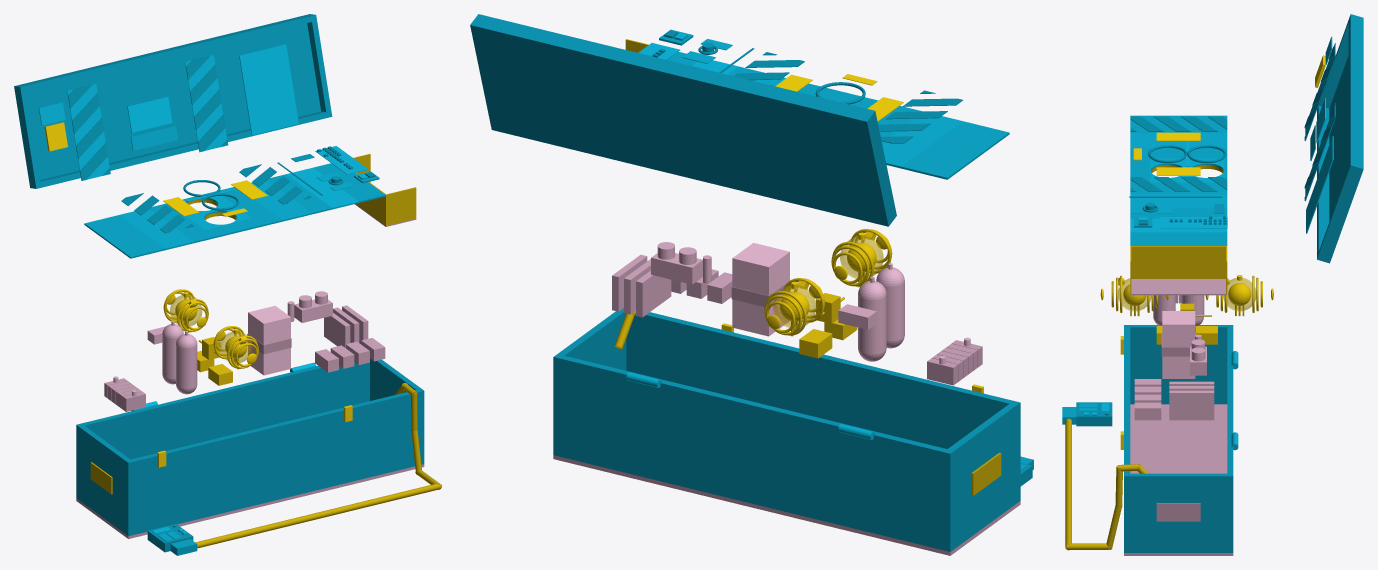
File: c204_A_eclate.glb
3 views of the same model, side by side, from view 1: azimuth 30°, elevation 25°; view 2: azimuth 150°, elevation 25°; view 3: azimuth 270°, elevation 25° (orthographic). The views are drawn at different scales.
Visible parts, largest first — view 1: A-002 [DOC] Corps — paroi avant, A-012 [DOC] Couvercle — dessus, A-003 [DOC] Corps — paroi arrière, A-029 [DOC] Plaque d'instructions de commande (7), A-004 [DOC] Corps — paroi d'extrémité gauche, A-013 [DOC] Couvercle — rebord avant, A-161 [HYP] Générateur d'électrons (6) — boîtier, A-104 [DÉD] Cordon spiralé — tronçon 1, A-014 [DOC] Couvercle — rebord arrière, A-017 [DOC] Couvercle — bande de danger n°1 (fond), A-023 [DOC] Couvercle — bande de danger n°2 (fond), A-036 [DOC] Platine — bande de danger n°1 (fond) (+27 smaller); view 2: A-012 [DOC] Couvercle — dessus, A-003 [DOC] Corps — paroi arrière, A-002 [DOC] Corps — paroi avant, A-004 [DOC] Corps — paroi d'extrémité gauche, A-013 [DOC] Couvercle — rebord avant, A-161 [HYP] Générateur d'électrons (6) — boîtier, A-005 [DOC] Corps — paroi d'extrémité droite, A-001 [HYP] Corps — fond, A-036 [DOC] Platine — bande de danger n°1 (fond), A-034 [DOC] Platine — zone tramée gauche (a), A-035 [DOC] Platine — zone tramée gauche (b), A-156 [HYP] Réservoir de refroidissement (10) n°2 — virole (+10 smaller); view 3: A-005 [DOC] Corps — paroi d'extrémité droite, A-001 [HYP] Corps — fond, A-004 [DOC] Corps — paroi d'extrémité gauche, A-093 [DÉD] Rangement 9 — cloison gauche, A-012 [DOC] Couvercle — dessus, A-013 [DOC] Couvercle — rebord avant, A-161 [HYP] Générateur d'électrons (6) — boîtier, A-092 [HYP] Rangement 9 — fond, A-002 [DOC] Corps — paroi avant, A-003 [DOC] Corps — paroi arrière, A-173 [HYP] Calculateur n°3 (volume générique), A-069 [DOC] Panneau 8/6 — fond (+25 smaller).
Boxes of the visible parts, left/top/right/bottom form: A-002 [DOC] Corps — paroi avant: left=125, top=388, right=424, bottom=536; A-012 [DOC] Couvercle — dessus: left=14, top=14, right=320, bottom=187; A-003 [DOC] Corps — paroi arrière: left=76, top=362, right=369, bottom=499; A-029 [DOC] Plaque d'instructions de commande (7): left=239, top=44, right=298, bottom=135; A-004 [DOC] Corps — paroi d'extrémité gauche: left=79, top=425, right=130, bottom=533; A-013 [DOC] Couvercle — rebord avant: left=15, top=14, right=316, bottom=92; A-161 [HYP] Générateur d'électrons (6) — boîtier: left=248, top=305, right=290, bottom=375; A-104 [DÉD] Cordon spiralé — tronçon 1: left=195, top=483, right=441, bottom=548; A-014 [DOC] Couvercle — rebord arrière: left=30, top=111, right=332, bottom=188; A-017 [DOC] Couvercle — bande de danger n°1 (fond): left=67, top=84, right=109, bottom=180; A-023 [DOC] Couvercle — bande de danger n°2 (fond): left=185, top=55, right=227, bottom=151; A-036 [DOC] Platine — bande de danger n°1 (fond): left=119, top=209, right=194, bottom=250; A-012 [DOC] Couvercle — dessus: left=470, top=23, right=890, bottom=226; A-003 [DOC] Corps — paroi arrière: left=553, top=354, right=954, bottom=551; A-002 [DOC] Corps — paroi avant: left=622, top=308, right=1020, bottom=503; A-004 [DOC] Corps — paroi d'extrémité gauche: left=948, top=403, right=1016, bottom=548; A-013 [DOC] Couvercle — rebord avant: left=472, top=14, right=876, bottom=125; A-161 [HYP] Générateur d'électrons (6) — boîtier: left=732, top=243, right=789, bottom=336; A-005 [DOC] Corps — paroi d'extrémité droite: left=558, top=309, right=626, bottom=370; A-001 [HYP] Corps — fond: left=553, top=455, right=1020, bottom=555; A-036 [DOC] Platine — bande de danger n°1 (fond): left=882, top=116, right=962, bottom=168; A-034 [DOC] Platine — zone tramée gauche (a): left=923, top=126, right=1009, bottom=179; A-035 [DOC] Platine — zone tramée gauche (b): left=901, top=121, right=984, bottom=173; A-156 [HYP] Réservoir de refroidissement (10) n°2 — virole: left=858, top=296, right=886, bottom=353; A-005 [DOC] Corps — paroi d'extrémité droite: left=1130, top=473, right=1227, bottom=552; A-001 [HYP] Corps — fond: left=1124, top=404, right=1233, bottom=555; A-004 [DOC] Corps — paroi d'extrémité gauche: left=1130, top=325, right=1227, bottom=404; A-093 [DÉD] Rangement 9 — cloison gauche: left=1130, top=246, right=1227, bottom=278; A-012 [DOC] Couvercle — dessus: left=1327, top=17, right=1363, bottom=263; A-013 [DOC] Couvercle — rebord avant: left=1348, top=14, right=1361, bottom=173; A-161 [HYP] Générateur d'électrons (6) — boîtier: left=1162, top=311, right=1195, bottom=378; A-092 [HYP] Rangement 9 — fond: left=1130, top=279, right=1227, bottom=295; A-002 [DOC] Corps — paroi avant: left=1124, top=325, right=1130, bottom=552; A-003 [DOC] Corps — paroi arrière: left=1227, top=325, right=1233, bottom=552; A-173 [HYP] Calculateur n°3 (volume générique): left=1169, top=390, right=1214, bottom=420; A-069 [DOC] Panneau 8/6 — fond: left=1130, top=232, right=1227, bottom=245.
Bounding box in the file's own units: 0.858 × 1.02 × 0.7156.
